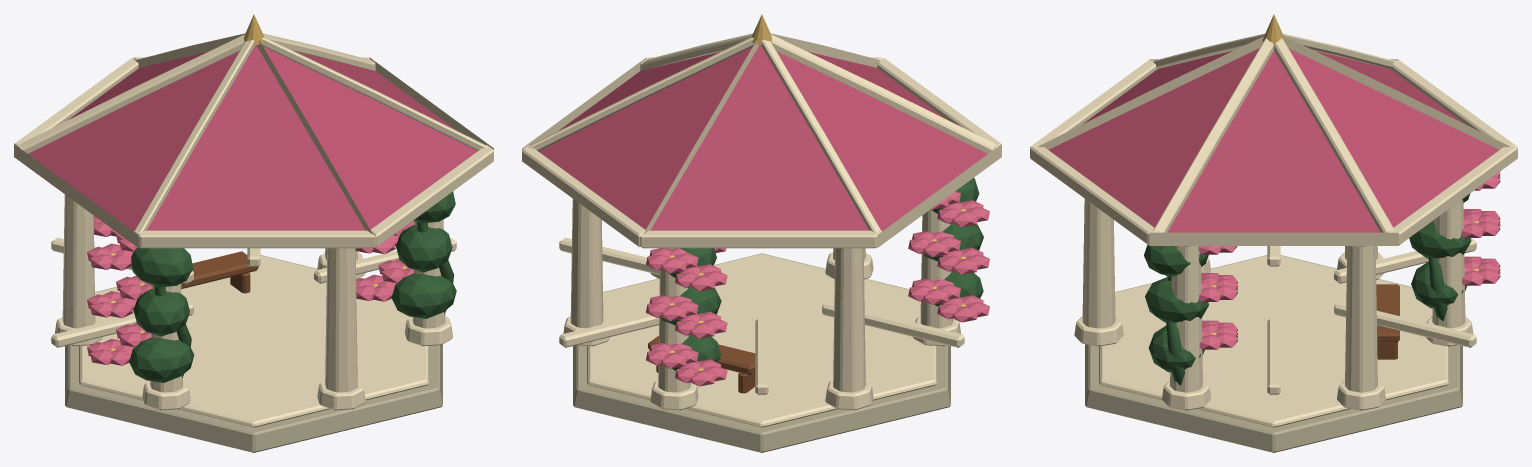
The model's file is garden_gazebo.glb.
3 views of the same model, side by side, from view 1: azimuth 30°, elevation 25°; view 2: azimuth 150°, elevation 25°; view 3: azimuth 270°, elevation 25° (orthographic).
Parts seen in each view (by area): view 1: Pigment_eddfbc, Pigment_b9516d, Pigment_375f39, Pigment_b5ae92, Pigment_d96b87, Pigment_805132; view 2: Pigment_eddfbc, Pigment_b9516d, Pigment_d96b87, Pigment_b5ae92, Pigment_375f39, Pigment_805132; view 3: Pigment_eddfbc, Pigment_b9516d, Pigment_b5ae92, Pigment_375f39, Pigment_d96b87, Pigment_805132.
Part boxes in pixels (<box>): Pigment_eddfbc: <box>14,33,493,427</box>; Pigment_b9516d: <box>28,45,477,231</box>; Pigment_375f39: <box>129,191,456,382</box>; Pigment_b5ae92: <box>65,255,442,452</box>; Pigment_d96b87: <box>87,216,413,365</box>; Pigment_805132: <box>181,251,258,293</box>; Pigment_eddfbc: <box>522,33,1001,427</box>; Pigment_b9516d: <box>538,45,987,231</box>; Pigment_d96b87: <box>646,191,989,386</box>; Pigment_b5ae92: <box>573,253,950,452</box>; Pigment_375f39: <box>658,178,983,370</box>; Pigment_805132: <box>648,335,755,393</box>; Pigment_eddfbc: <box>1030,33,1517,427</box>; Pigment_b9516d: <box>1049,48,1498,232</box>; Pigment_b5ae92: <box>1085,255,1462,452</box>; Pigment_375f39: <box>1144,193,1471,385</box>; Pigment_d96b87: <box>1198,172,1500,349</box>; Pigment_805132: <box>1376,284,1399,359</box>.
Bounding box in the file's own units: 6.36 × 5.26 × 6.69.
